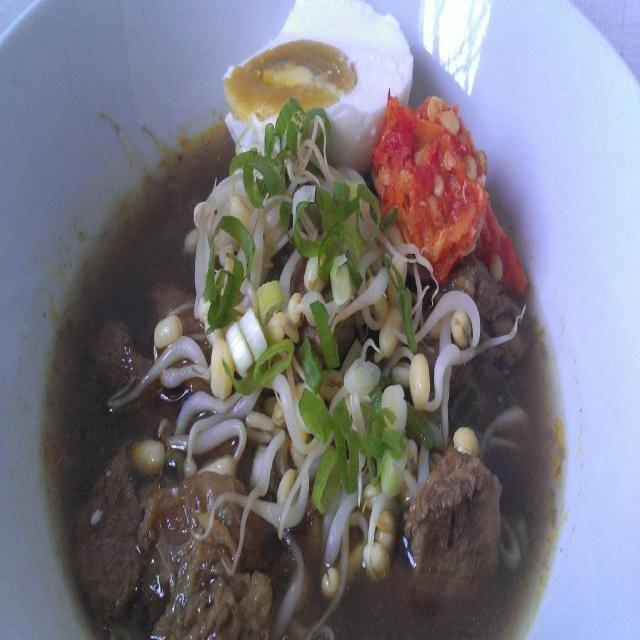Rawon: (36, 126, 559, 640)
